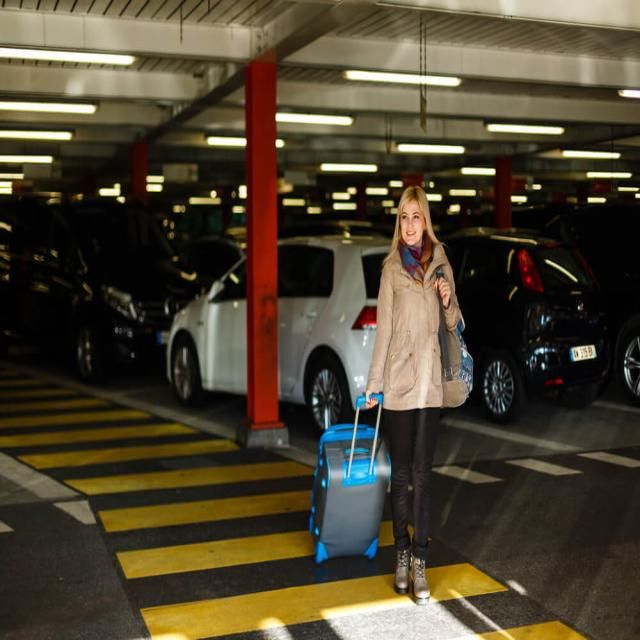ocupado: (0, 162, 638, 453)
